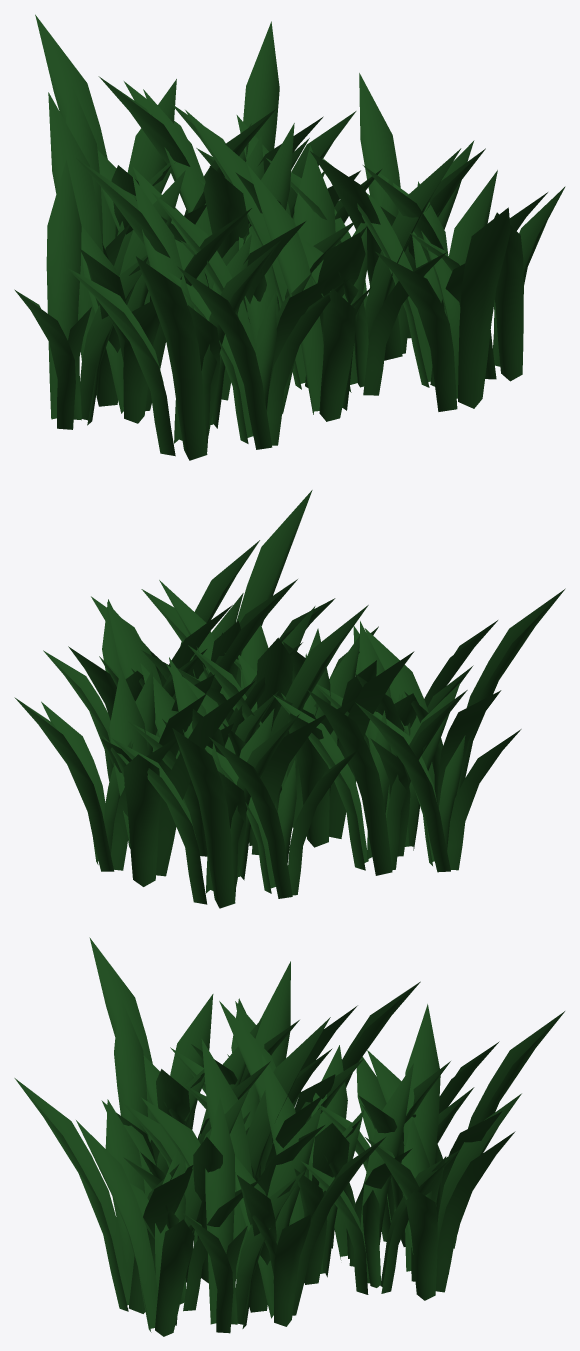
File: Large Grass Cluster.fbx
3 views of the same model, one above another, from view 1: azimuth 30°, elevation 25°; view 2: azimuth 150°, elevation 25°; view 3: azimuth 270°, elevation 25° (orthographic). The views are drawn at different scales.
Visible parts, largest first — view 1: pasted__pasted__pasted__pPlane1 (×16), pasted__pasted__pPlane1 (×13), pasted__pasted__pasted__pasted__pPlane1 (×16), pasted__pasted__pasted__pasted__pasted__pPlane1 (×9), pasted__pPlane1 (×6), pasted__pasted__pasted__pasted__pasted__pasted__pPlane1 (×4), pPlane1; view 2: pasted__pasted__pasted__pasted__pPlane1 (×14), pasted__pasted__pasted__pPlane1 (×16), pasted__pasted__pPlane1 (×11), pasted__pasted__pasted__pasted__pasted__pPlane1 (×11), pasted__pasted__pasted__pasted__pasted__pasted__pPlane1 (×5), pasted__pPlane1 (×4), pPlane1; view 3: pasted__pasted__pasted__pasted__pPlane1 (×16), pasted__pasted__pasted__pPlane1 (×16), pasted__pasted__pPlane1 (×12), pasted__pasted__pasted__pasted__pasted__pPlane1 (×10), pasted__pasted__pasted__pasted__pasted__pasted__pPlane1 (×6), pasted__pPlane1 (×4).
Part boxes in pixels (left/top/right/bottom): pasted__pasted__pasted__pPlane1 (×16): left=48, top=79, right=510, bottom=456; pasted__pasted__pPlane1 (×13): left=46, top=21, right=523, bottom=460; pasted__pasted__pasted__pasted__pPlane1 (×16): left=14, top=14, right=565, bottom=451; pasted__pasted__pasted__pasted__pasted__pPlane1 (×9): left=68, top=79, right=497, bottom=421; pasted__pPlane1 (×6): left=143, top=89, right=432, bottom=449; pasted__pasted__pasted__pasted__pasted__pasted__pPlane1 (×4): left=111, top=148, right=485, bottom=394; pPlane1: left=132, top=176, right=182, bottom=283; pasted__pasted__pasted__pasted__pPlane1 (×14): left=110, top=579, right=521, bottom=908; pasted__pasted__pasted__pPlane1 (×16): left=41, top=490, right=501, bottom=898; pasted__pasted__pPlane1 (×11): left=14, top=540, right=565, bottom=872; pasted__pasted__pasted__pasted__pasted__pPlane1 (×11): left=102, top=589, right=467, bottom=904; pasted__pasted__pasted__pasted__pasted__pasted__pPlane1 (×5): left=107, top=602, right=391, bottom=900; pasted__pPlane1 (×4): left=188, top=620, right=497, bottom=820; pPlane1: left=355, top=674, right=403, bottom=757; pasted__pasted__pasted__pasted__pPlane1 (×16): left=105, top=1004, right=564, bottom=1336; pasted__pasted__pasted__pPlane1 (×16): left=14, top=961, right=499, bottom=1326; pasted__pasted__pPlane1 (×12): left=76, top=937, right=515, bottom=1332; pasted__pasted__pasted__pasted__pasted__pPlane1 (×10): left=101, top=1056, right=521, bottom=1333; pasted__pasted__pasted__pasted__pasted__pasted__pPlane1 (×6): left=141, top=1050, right=436, bottom=1324; pasted__pPlane1 (×4): left=114, top=994, right=450, bottom=1276.
Bounding box in the file's own units: 4.23 × 1.97 × 4.45.
